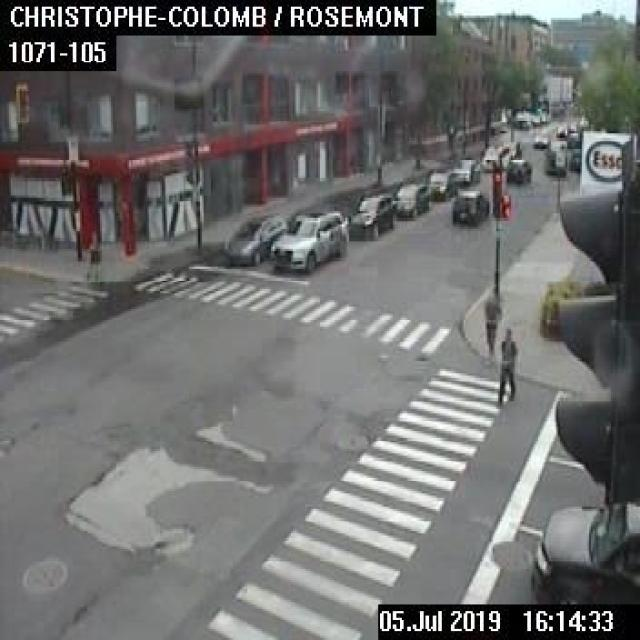pedestrian: (494, 324, 517, 406), (85, 230, 101, 279)
vehicle: (532, 500, 638, 602), (270, 209, 347, 270), (223, 212, 285, 262), (346, 192, 396, 236), (450, 189, 488, 224), (391, 182, 429, 217), (427, 171, 457, 199), (543, 144, 566, 174), (453, 158, 479, 183), (482, 144, 509, 168), (506, 158, 530, 182), (502, 140, 520, 158), (532, 129, 549, 146), (567, 147, 579, 170), (566, 131, 579, 146), (555, 123, 565, 136), (567, 120, 575, 130)
